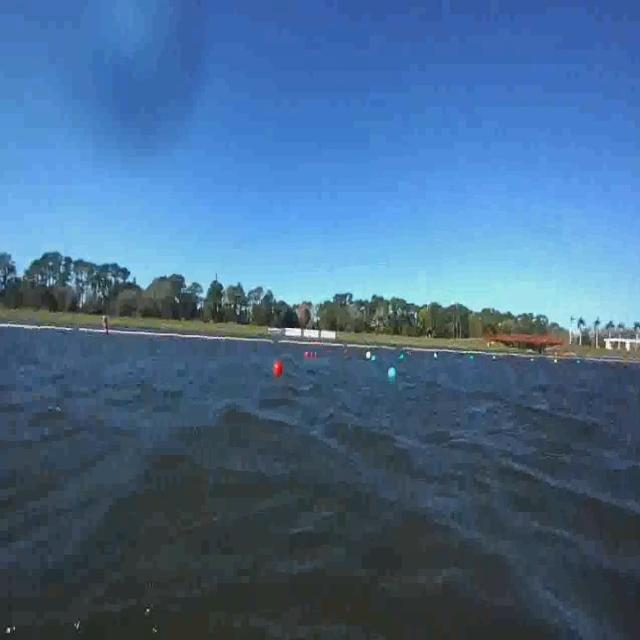red-buoy: (275, 359, 284, 376)
